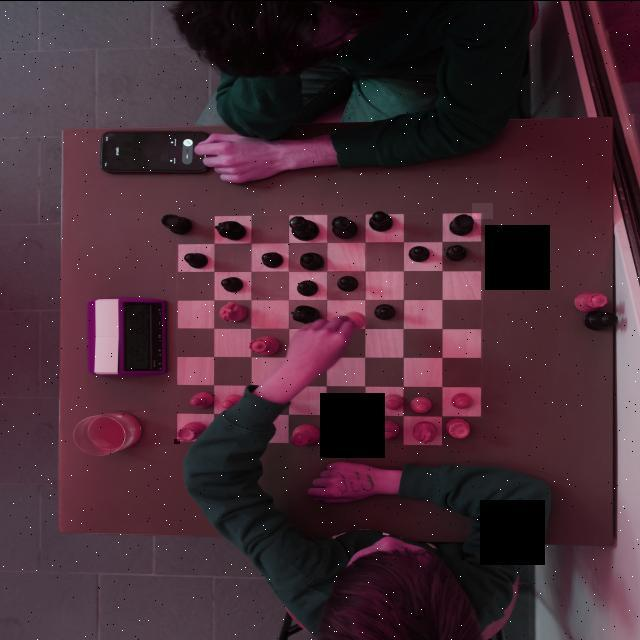chess-table-corners: (472, 202, 493, 218), (174, 438, 180, 443)
